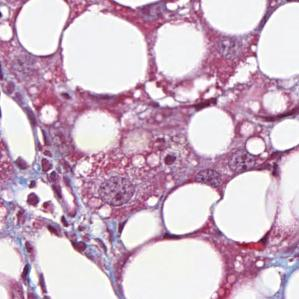inflammation: (43, 211, 94, 256), (18, 176, 43, 212)
